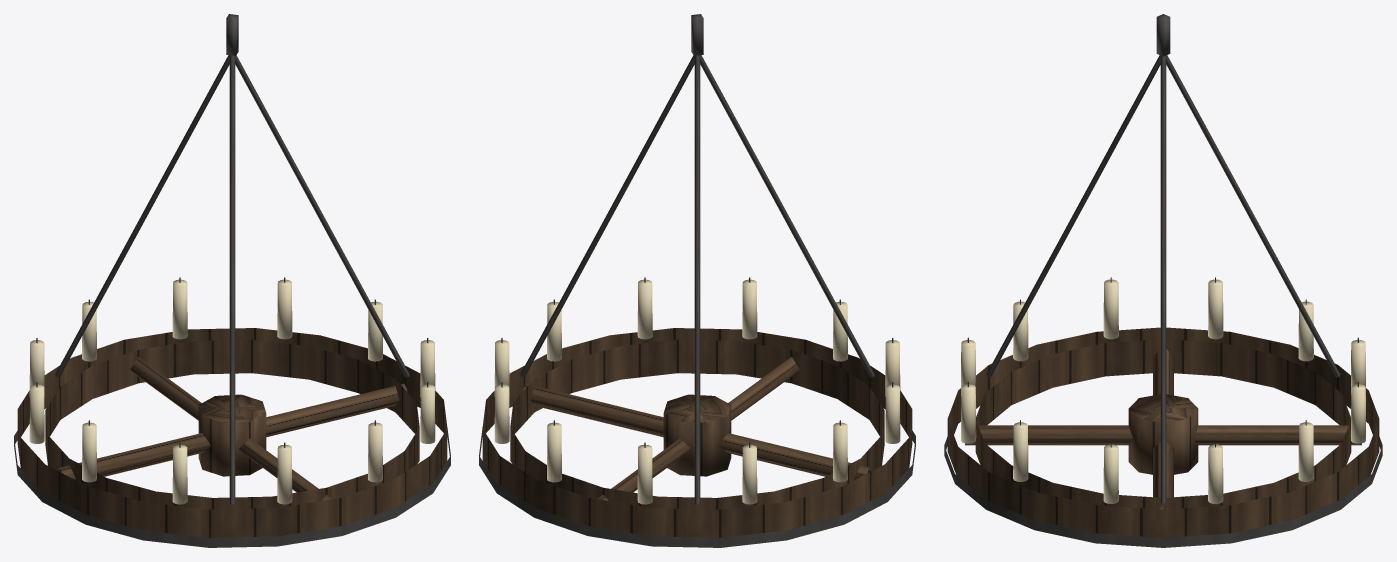
Rendered from Chandelier.gltf.
3 renders of one model, left to right at view 1: azimuth 30°, elevation 25°; view 2: azimuth 150°, elevation 25°; view 3: azimuth 270°, elevation 25°, orthographic.
Visible parts, largest first — view 1: Chandelier; view 2: Chandelier; view 3: Chandelier.
Part boxes in pixels (bbox=[...]): Chandelier: bbox=[14, 14, 450, 547]; Chandelier: bbox=[479, 14, 915, 547]; Chandelier: bbox=[944, 14, 1382, 547].
Bounding box in the file's own units: 1.3 × 1.46 × 1.3.
3 materials, 3 textured.
